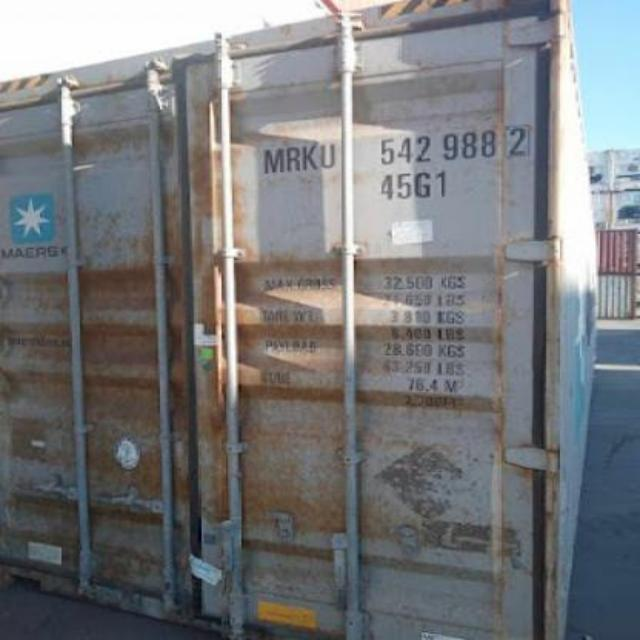2: (502, 125, 530, 158), (412, 132, 432, 164)
4: (394, 133, 412, 165)
5: (376, 135, 396, 167)
8: (460, 128, 478, 162), (478, 127, 498, 157)
9: (440, 130, 458, 163)
K: (300, 140, 316, 174)
M: (260, 144, 284, 176)
R: (282, 140, 302, 178)
U: (316, 140, 336, 172)
